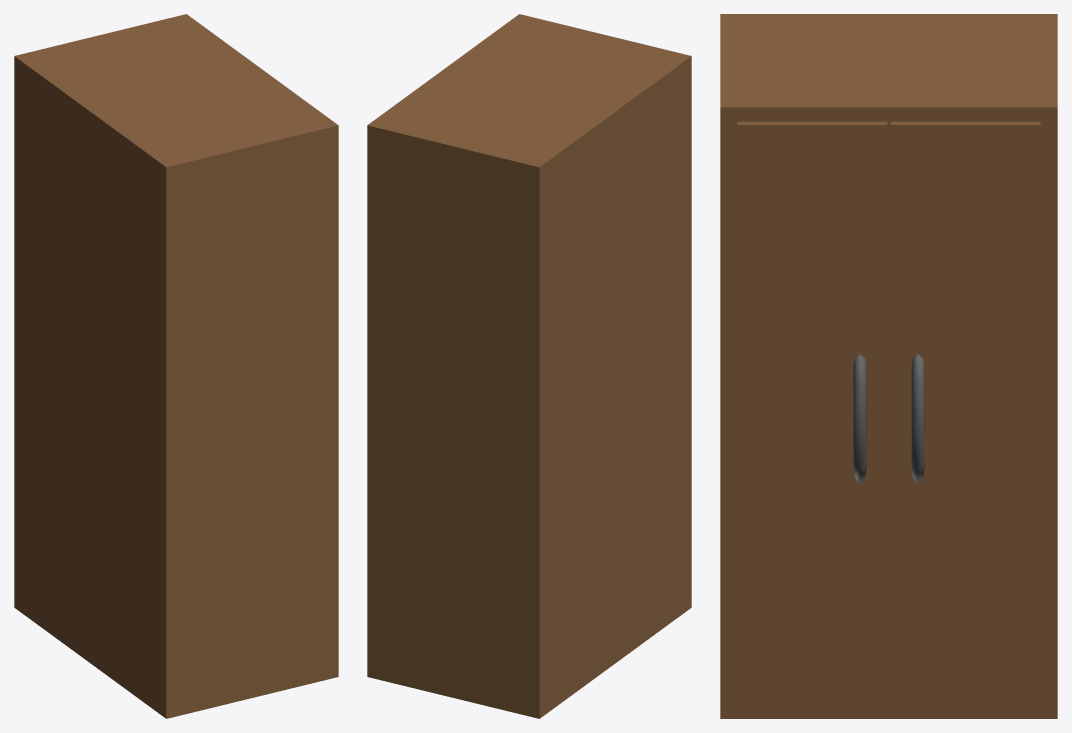
File: locker-tall.lod1.glb
3 renders of one model, left to right at view 1: azimuth 30°, elevation 25°; view 2: azimuth 150°, elevation 25°; view 3: azimuth 270°, elevation 25°, orthographic. The views are drawn at different scales.
Parts seen in each view (by area): view 1: armario.001_madeira.001_0; view 2: armario.001_madeira.001_0; view 3: armario.001_madeira.001_0.
Part boxes in pixels (<box>): armario.001_madeira.001_0: <box>14,14,338,718</box>; armario.001_madeira.001_0: <box>367,14,691,718</box>; armario.001_madeira.001_0: <box>720,14,1057,718</box>.
Size of the model in its own units: 0.8213 by 2.2 by 1.1.
